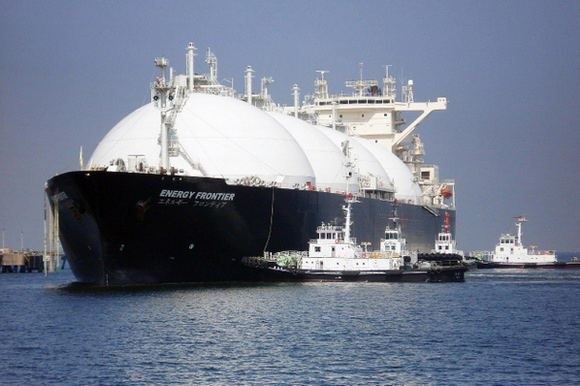Cargoship: (47, 60, 460, 286)
yacht: (246, 200, 433, 285), (369, 198, 468, 285), (478, 219, 574, 268), (423, 207, 470, 266)
